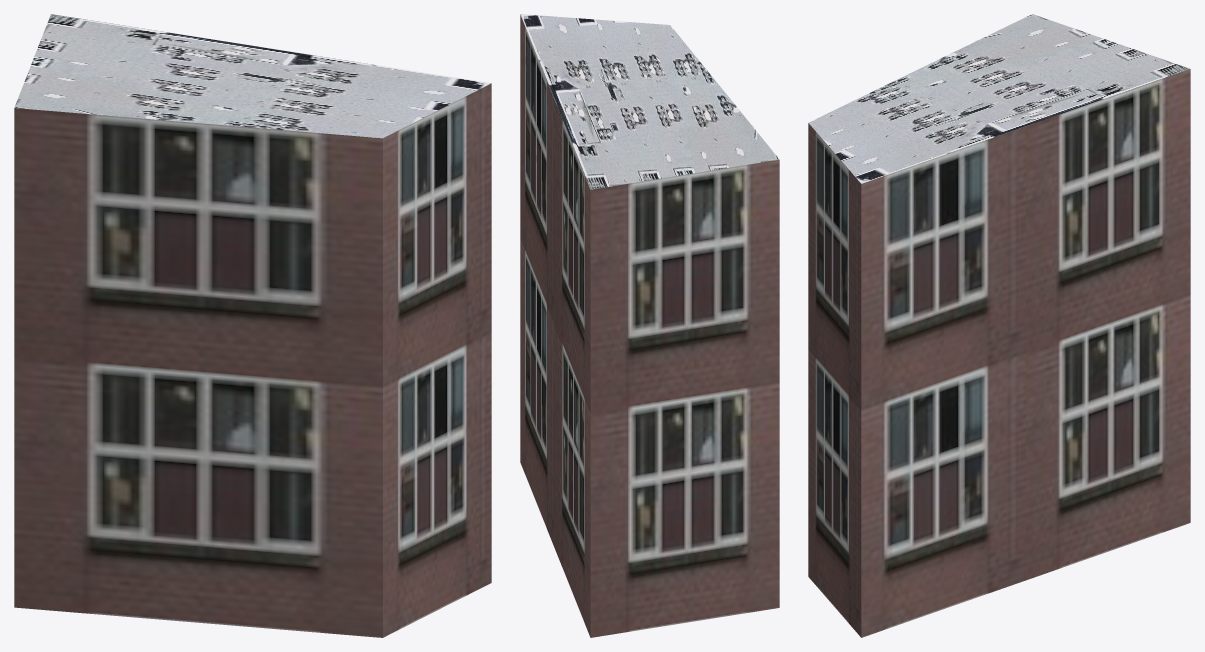
File: ResTex__1393.fbx
3 renders of one model, left to right at view 1: azimuth 30°, elevation 25°; view 2: azimuth 150°, elevation 25°; view 3: azimuth 270°, elevation 25°, orthographic. The views are drawn at different scales.
Visible parts, largest first — view 1: CityEngineMaterial_12_m, CityEngineMaterial_4_m; view 2: CityEngineMaterial_12_m, CityEngineMaterial_4_m; view 3: CityEngineMaterial_12_m, CityEngineMaterial_4_m.
Boxes of the visible parts, <box> form: CityEngineMaterial_12_m: <box>14,83,491,637</box>; CityEngineMaterial_4_m: <box>14,14,490,138</box>; CityEngineMaterial_12_m: <box>520,15,779,637</box>; CityEngineMaterial_4_m: <box>520,14,779,189</box>; CityEngineMaterial_12_m: <box>808,69,1190,637</box>; CityEngineMaterial_4_m: <box>808,14,1189,183</box>.
Bounding box in the file's own units: 4.82 × 6 × 4.58.
2 materials, 2 textured.
